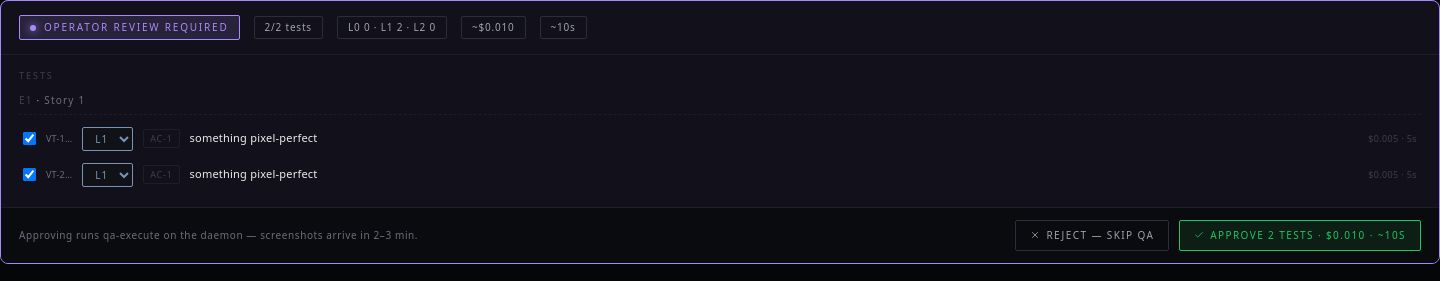
ContractGate — pending state › changing a level recomputes cost
Select "L2" in the dropdown named "Level for VT-1" at (108, 138), box [82,126,133,150]
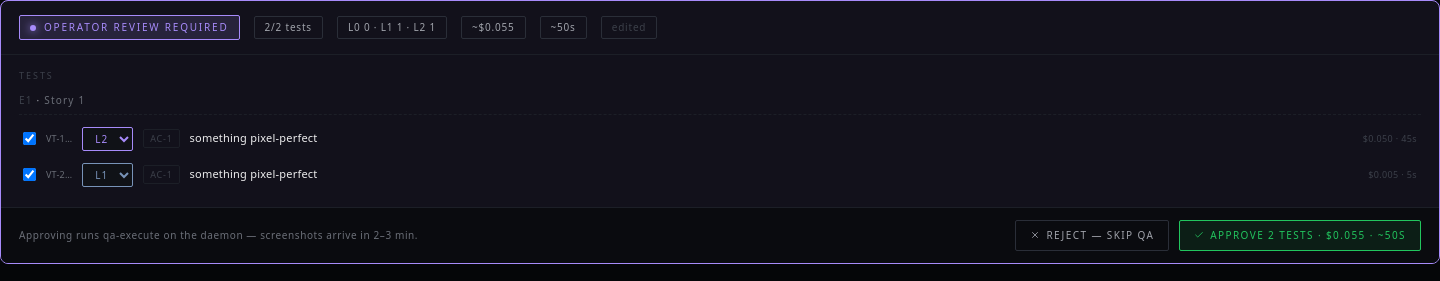
Result: the text "L0 0 · L1 1 · L2 1" is shown at [337,16,447,39]
Result: the text "~$0.055" is shown at [461,16,526,39]
